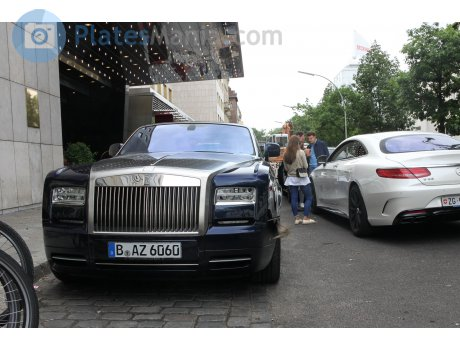License Plates: (114, 239, 184, 255)
